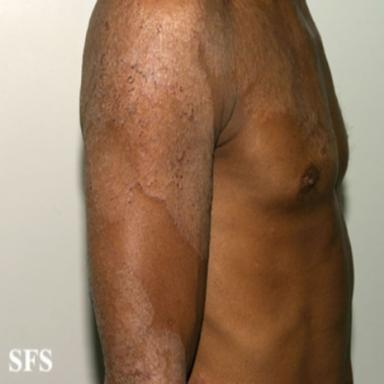Tinea-Corporis: (80, 1, 235, 384), (232, 0, 338, 162)
